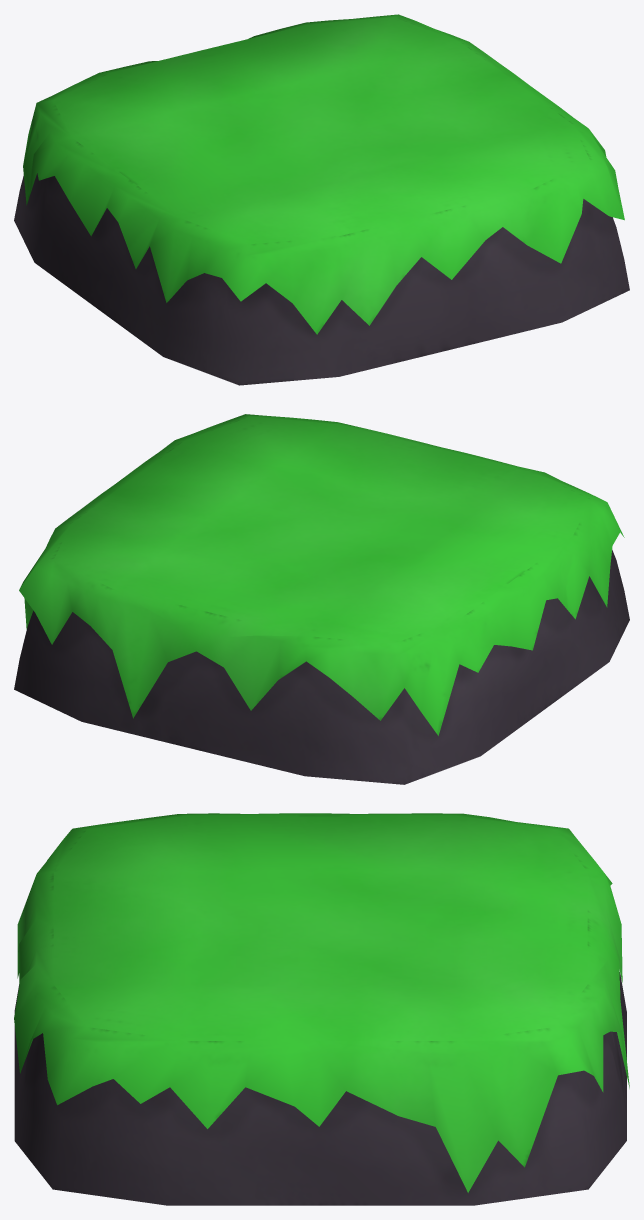
Rendered from Mossy Rock.obj.
3 views of the same model, one above another, from view 1: azimuth 30°, elevation 25°; view 2: azimuth 150°, elevation 25°; view 3: azimuth 270°, elevation 25° (orthographic). The views are drawn at different scales.
Visible parts, largest first — view 1: Plane; view 2: Plane; view 3: Plane.
Boxes of the visible parts, x1,y1,x2,y2 form: Plane: (14, 14, 629, 385); Plane: (14, 414, 629, 784); Plane: (14, 813, 629, 1205).
Size of the model in its own units: 10.4 by 2.76 by 10.4.
